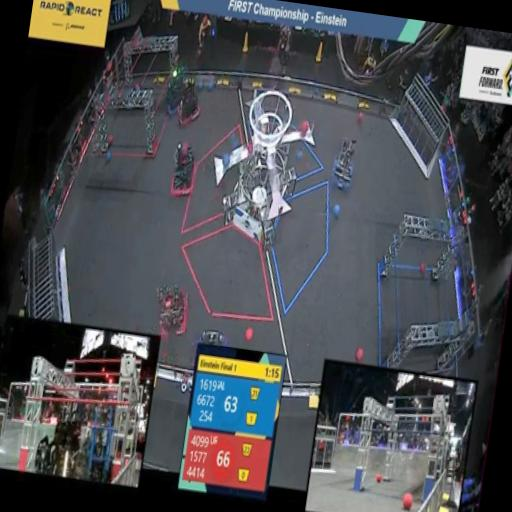robot: (148, 280, 196, 344), (162, 136, 204, 204), (327, 131, 362, 199), (172, 74, 206, 136), (162, 56, 194, 118), (192, 322, 232, 370)
